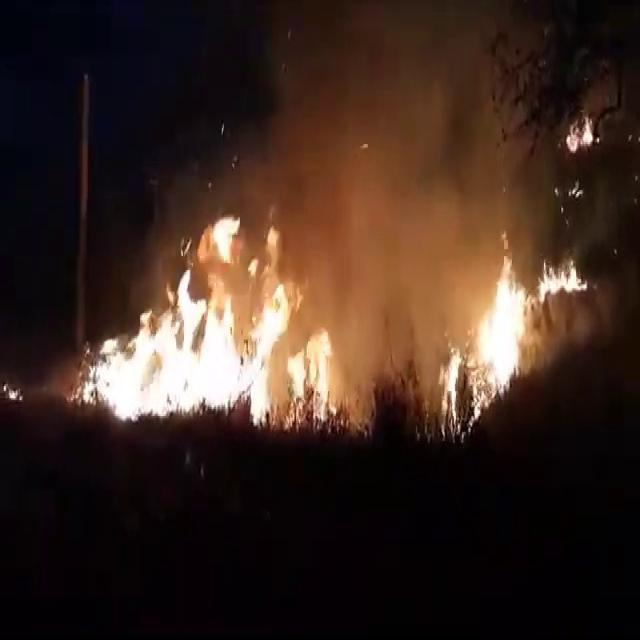Fire: (71, 216, 308, 420), (433, 240, 599, 436), (290, 327, 336, 423), (76, 343, 96, 418), (565, 112, 597, 153)
Smoke: (275, 21, 489, 271)
